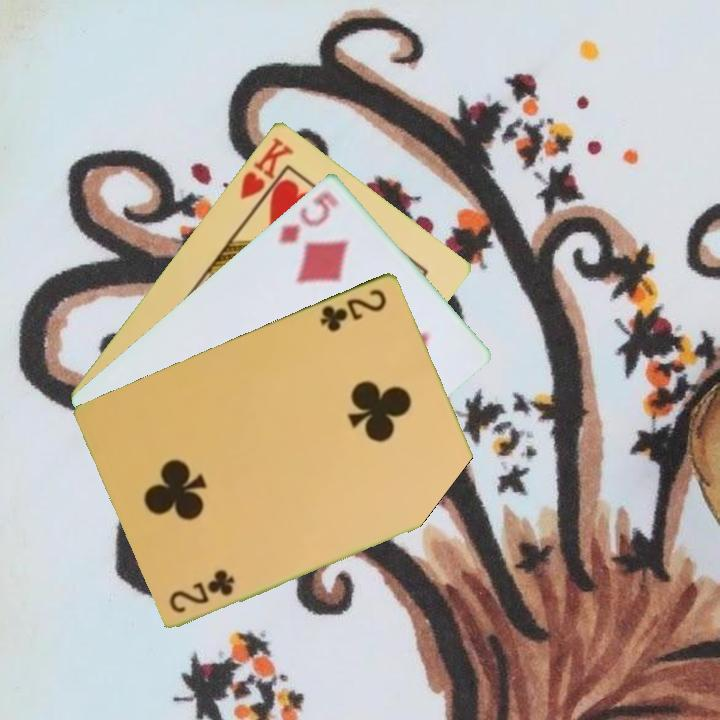2c: (316, 284, 390, 334), (165, 568, 238, 615)
5d: (274, 187, 342, 246)
Kh: (236, 133, 297, 214)
